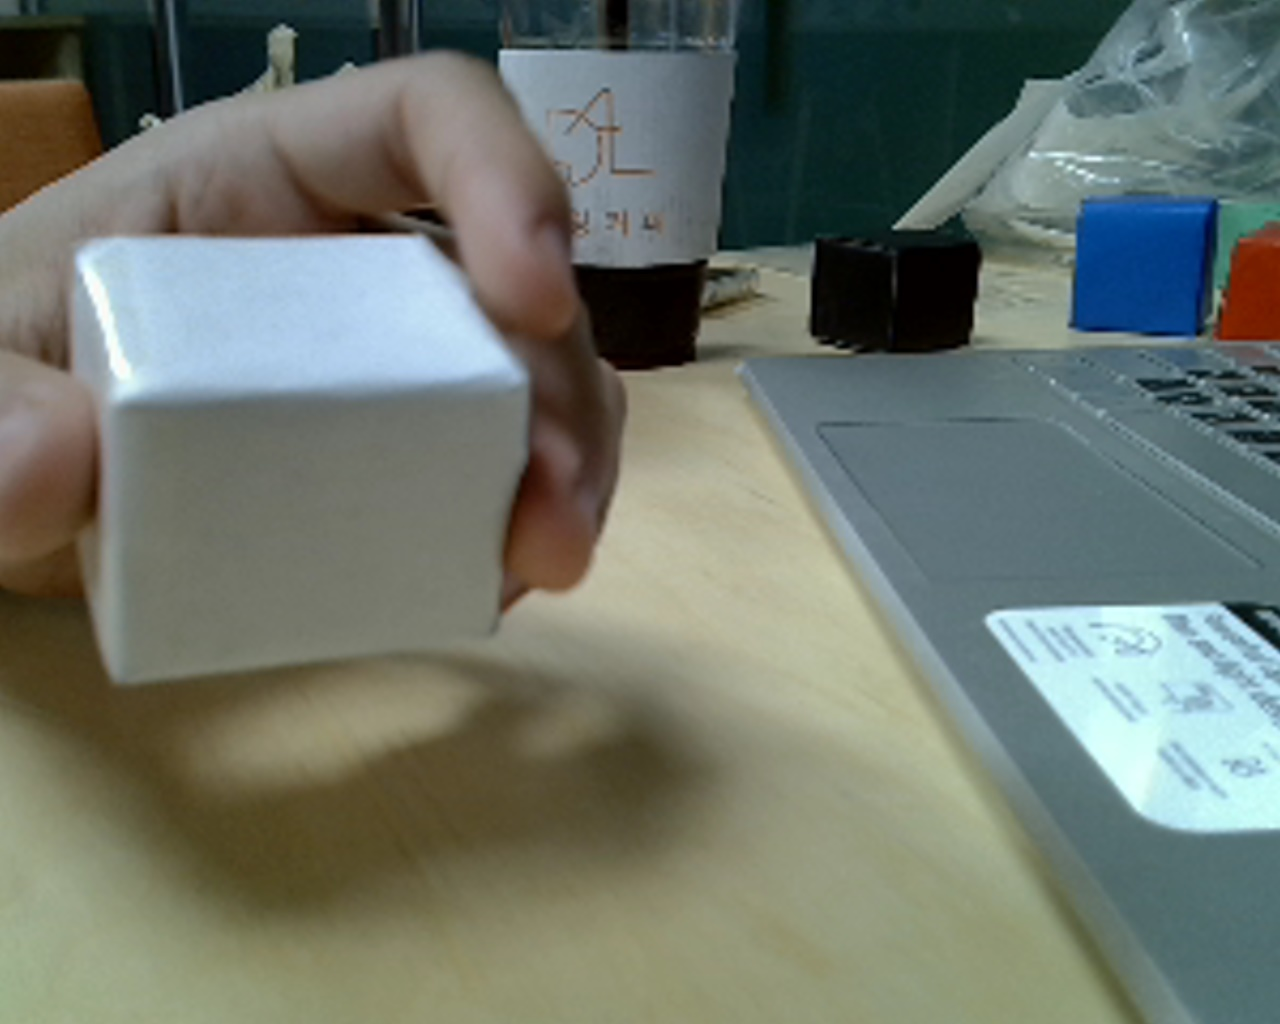whitebox: (40, 202, 554, 700)
